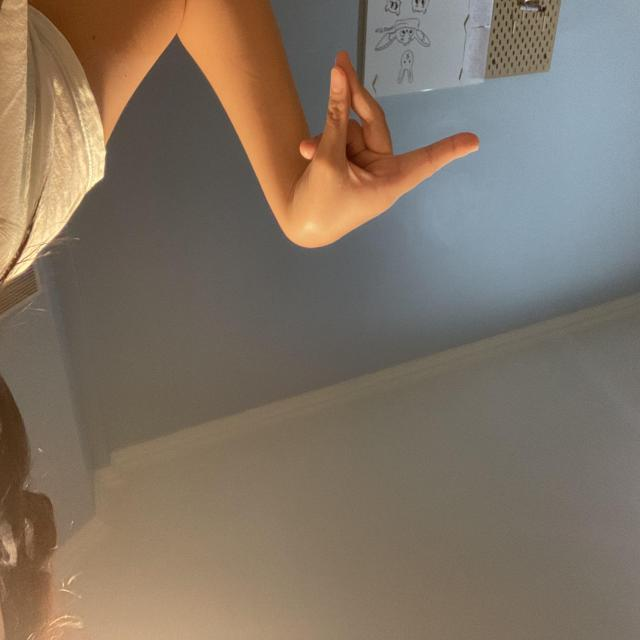P: (160, 392, 352, 589)
